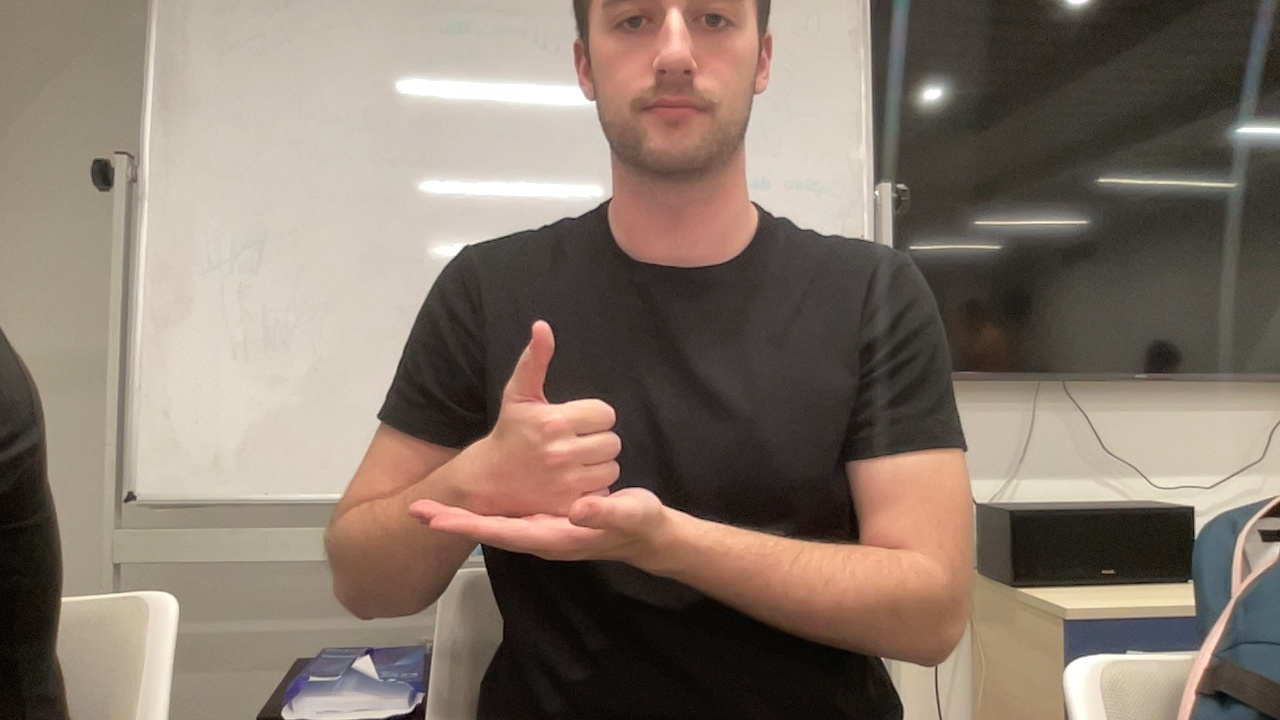Help: (399, 313, 663, 575)
